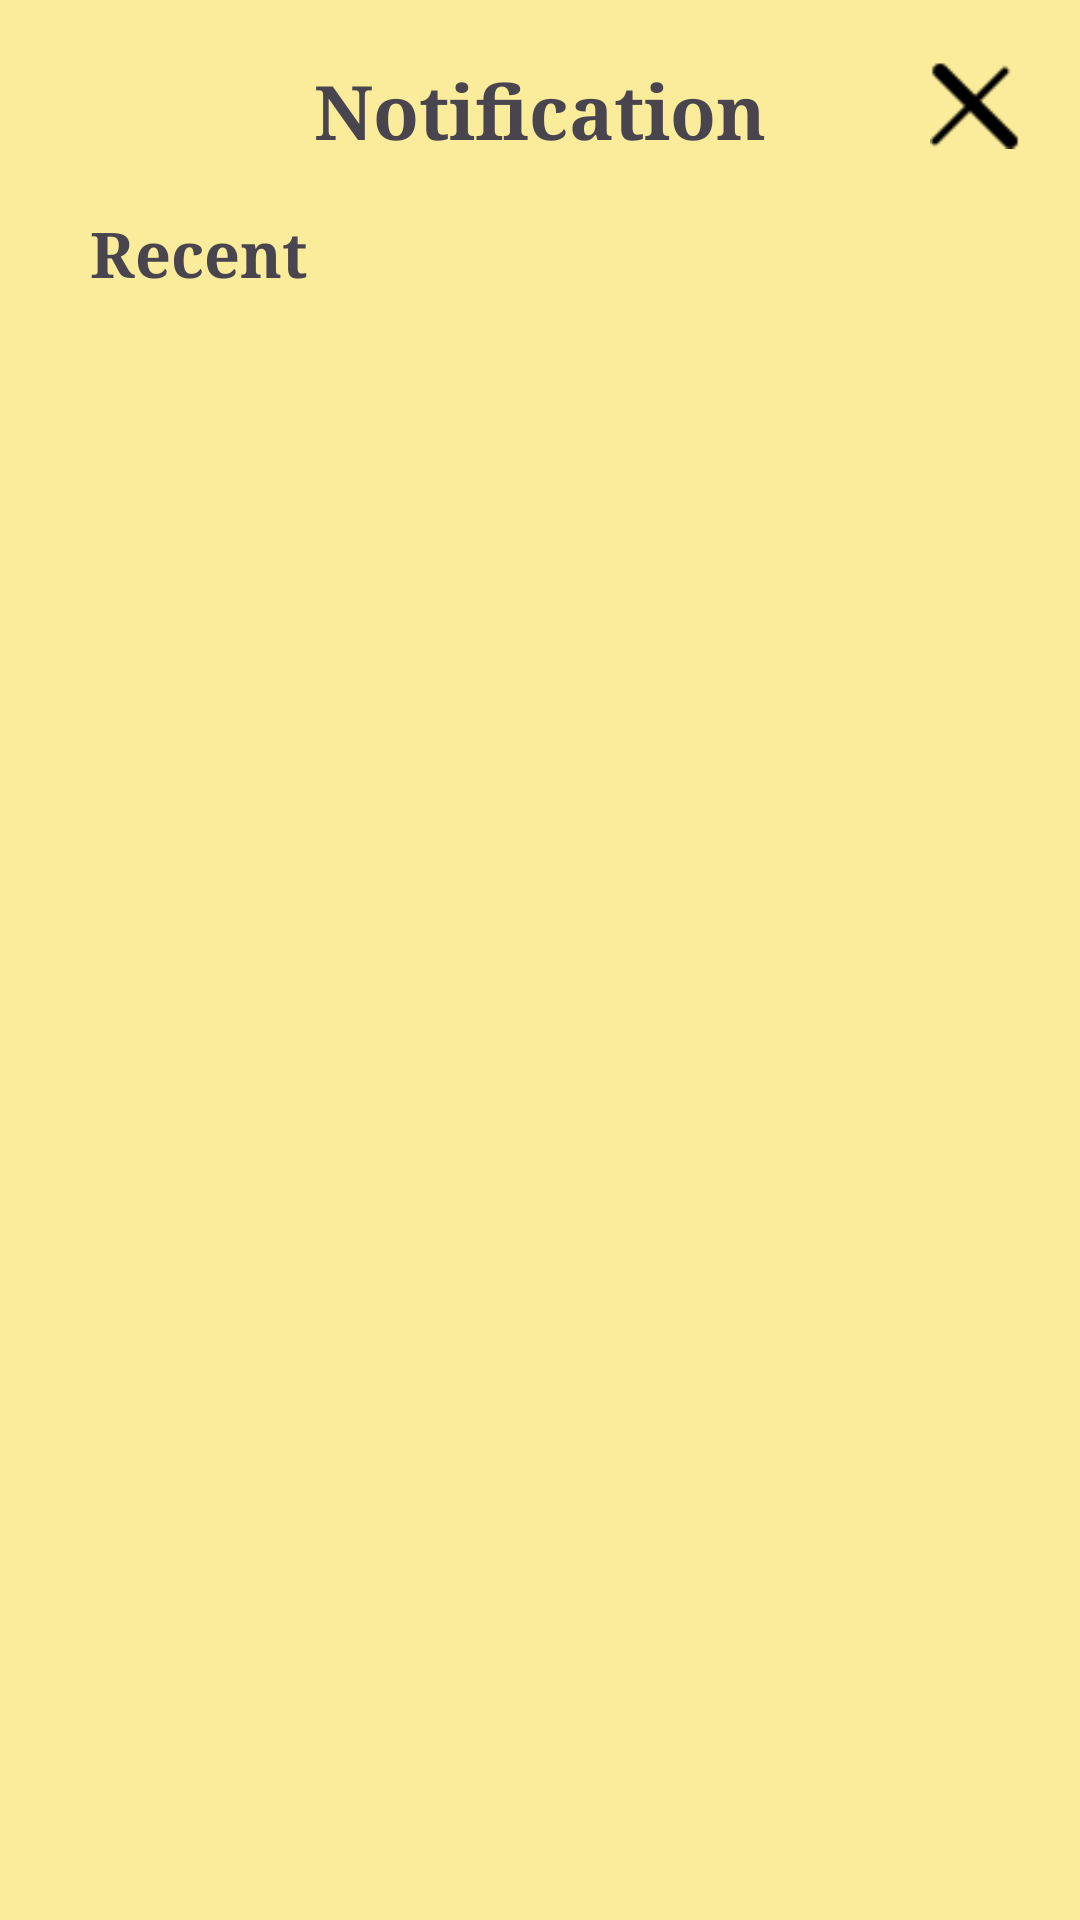

Where icons sit on this 1080 × 1920 app screen, as (x1, y1, x2, y2):
cross: (930, 63, 1019, 149)
